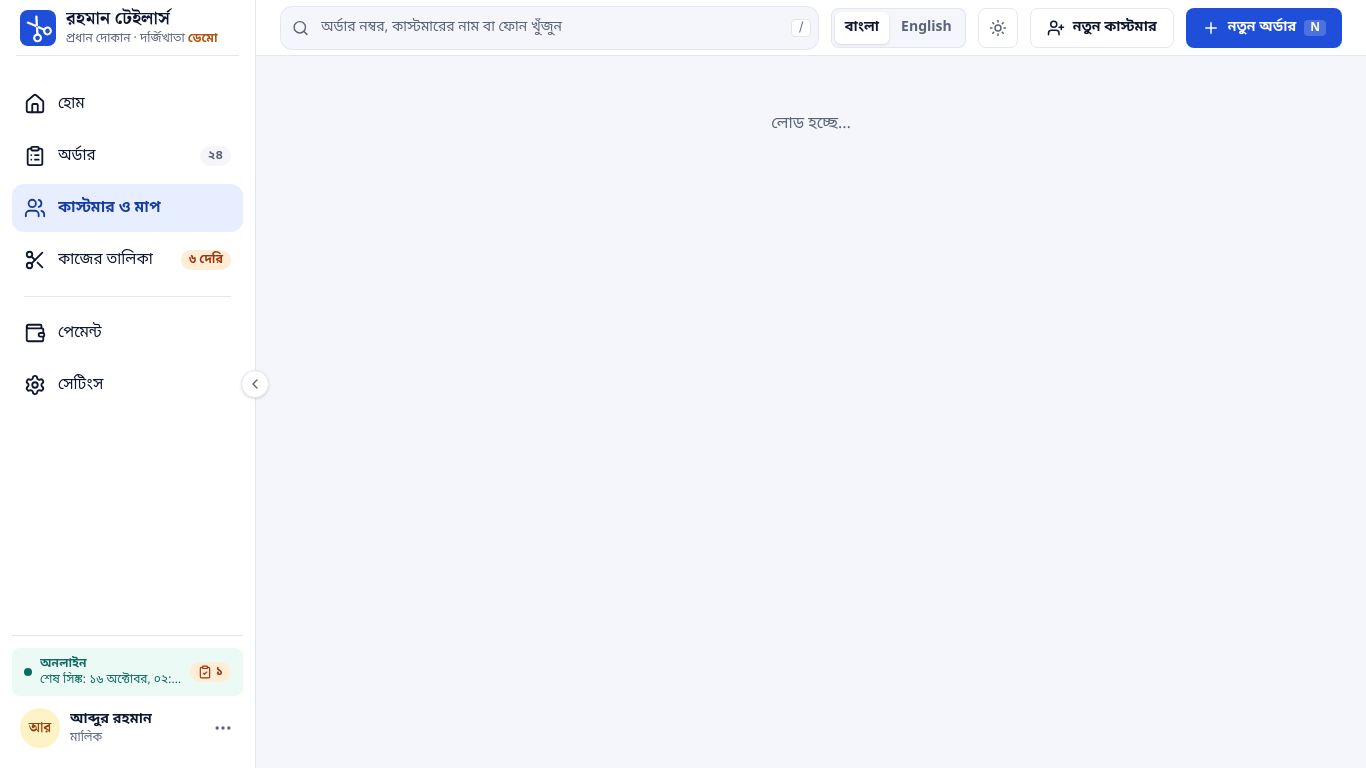
Test: Sync status › lets another device change the open customer, at once when online and after a sync when offline
Click the button "অনলাইন শেষ সিঙ্ক: ১৬ অক্টোবর, ০২:৪৪ ১" at point(128, 672), box [12,648,243,696]
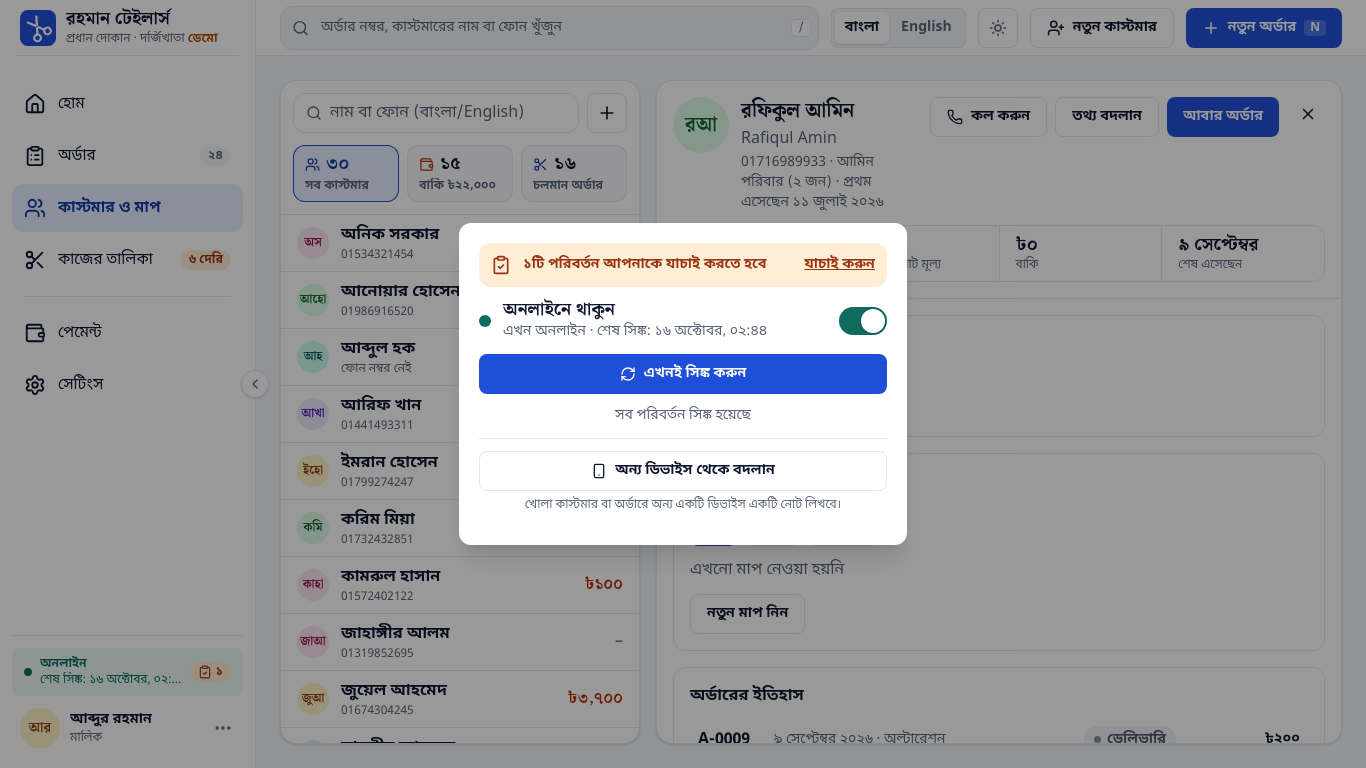
Click the button "অন্য ডিভাইস থেকে বদলান" at point(683, 471), box [479,451,887,491]
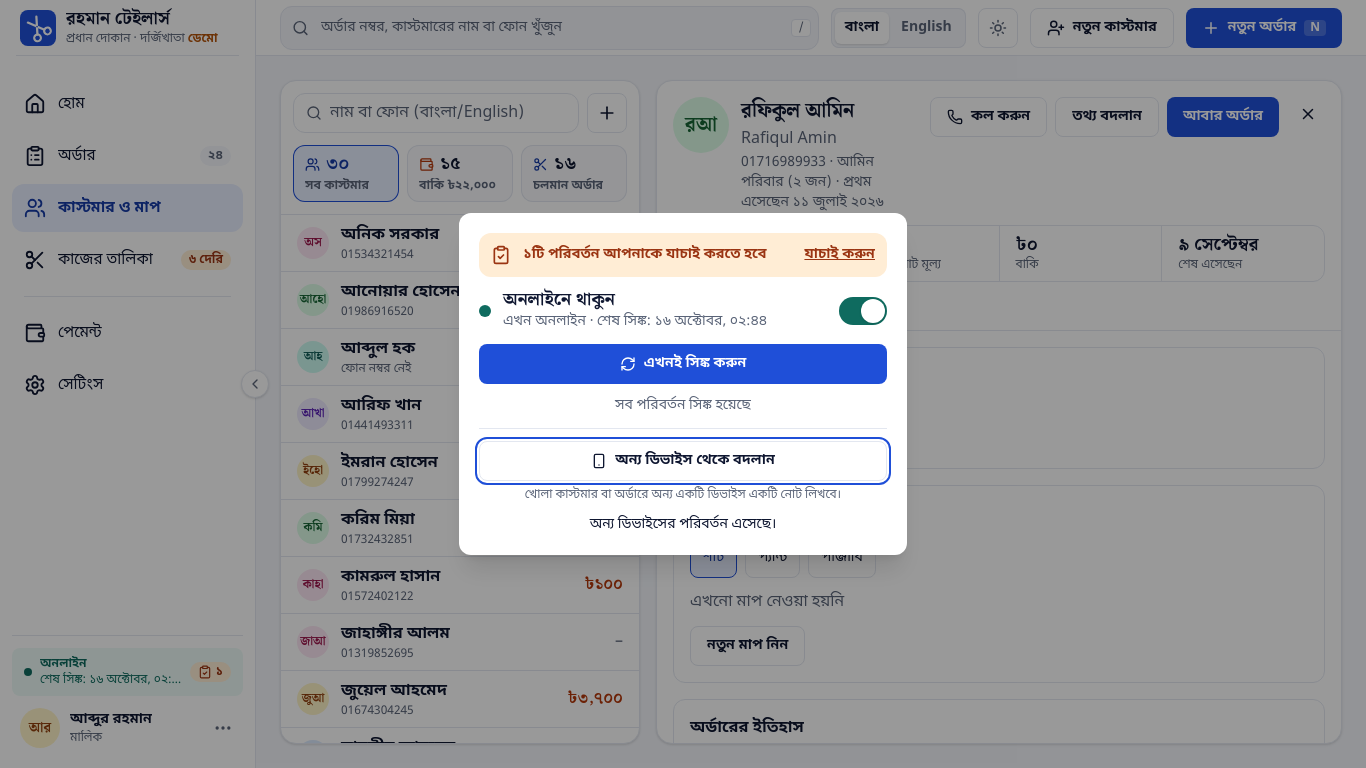
Expected: the text "অন্য ডিভাইসের পরিবর্তন এসেছে।" is shown, [590,515,776,534]
Click the switch named "অফলাইনে যান" at point(863, 310), box [839,296,887,324]
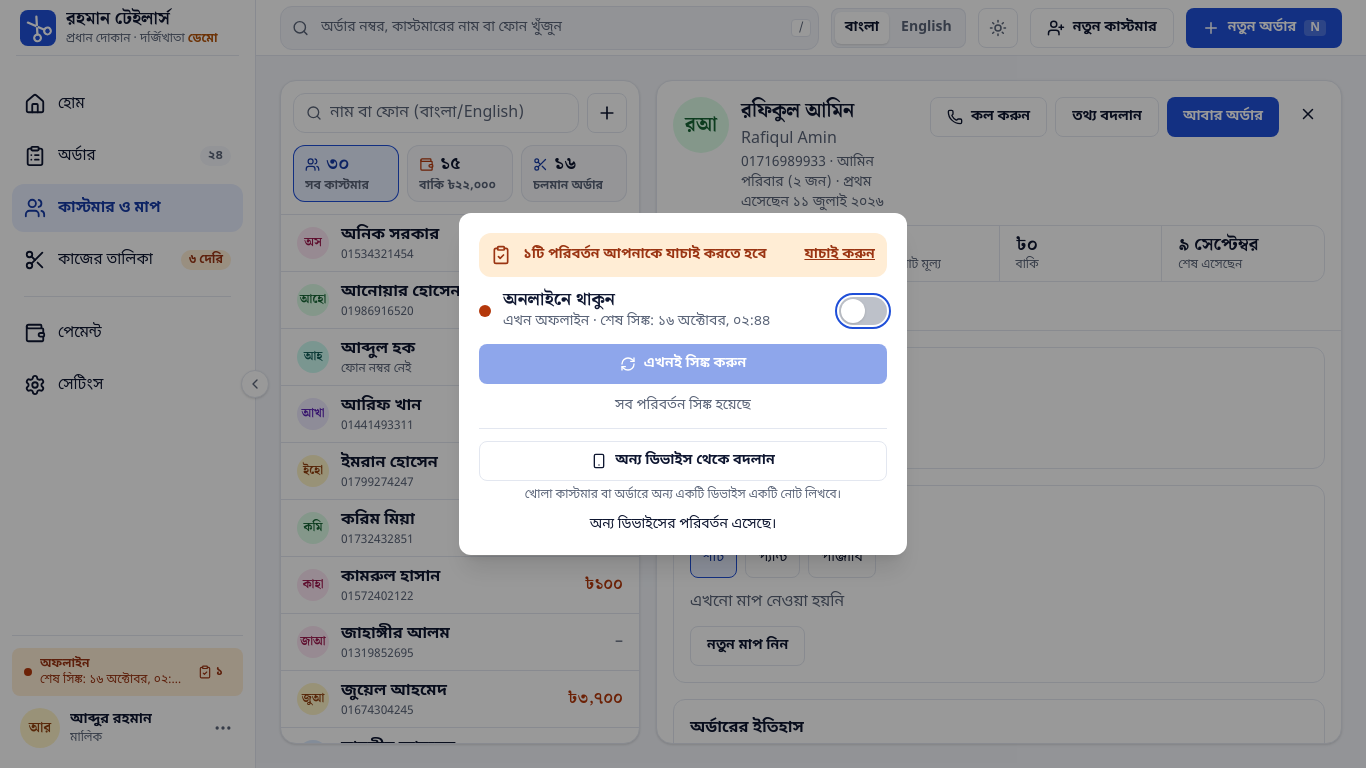
Click the button "অন্য ডিভাইস থেকে বদলান" at point(683, 461), box [479,441,887,481]
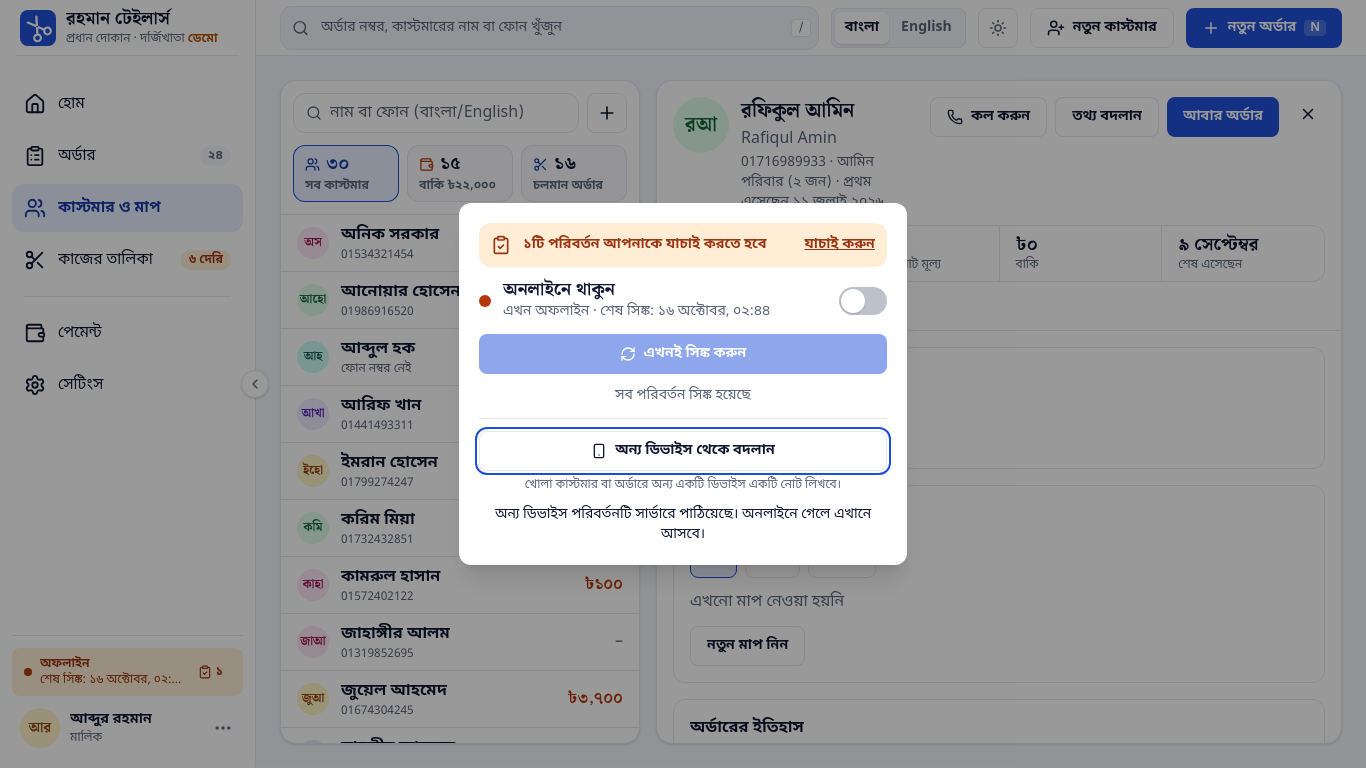
Expected: the text "অন্য ডিভাইস পরিবর্তনটি সার্ভারে পাঠিয়েছে। অনলাইনে গেলে এখানে আসবে।" is shown, [479,505,887,545]
Click the switch named "অনলাইনে যান" at point(863, 300), box [839,286,887,314]
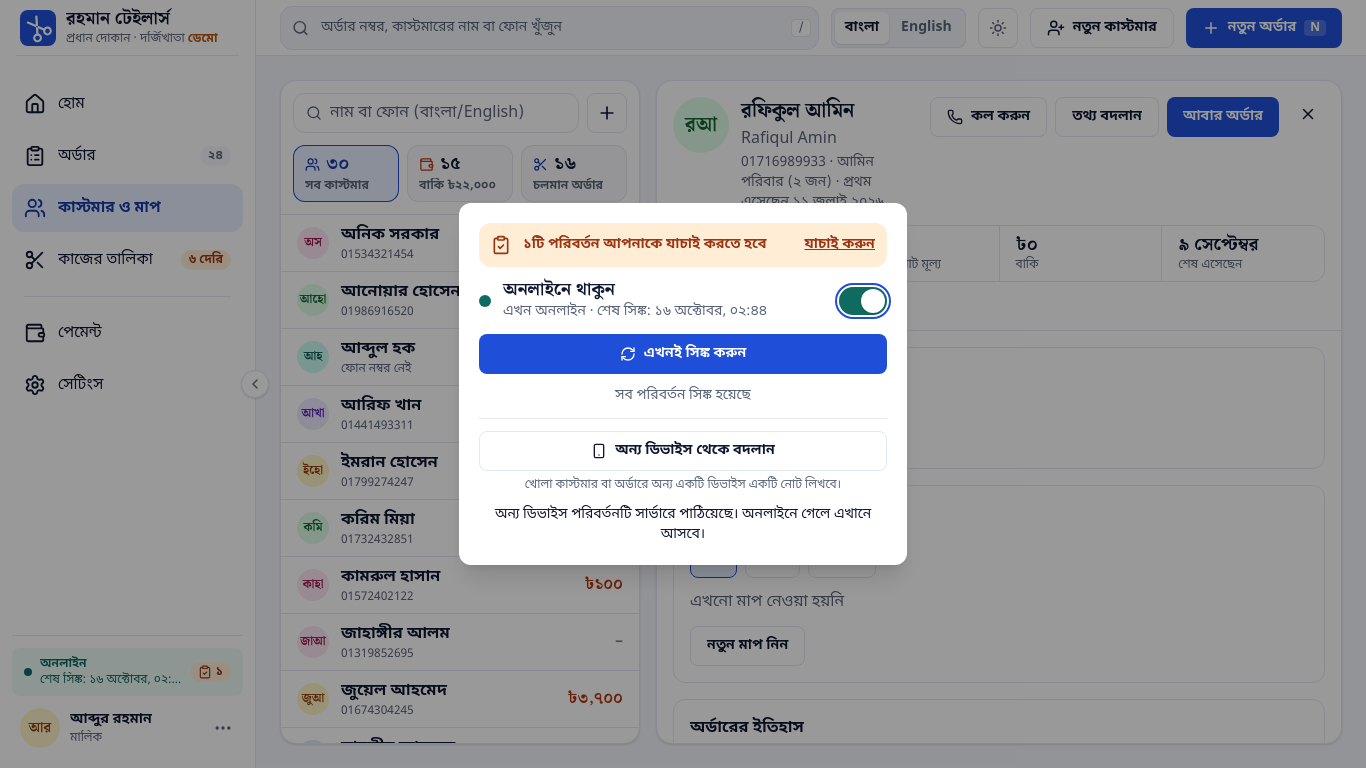
Expected: the switch named "অফলাইনে যান" is shown, [839,286,887,314]
